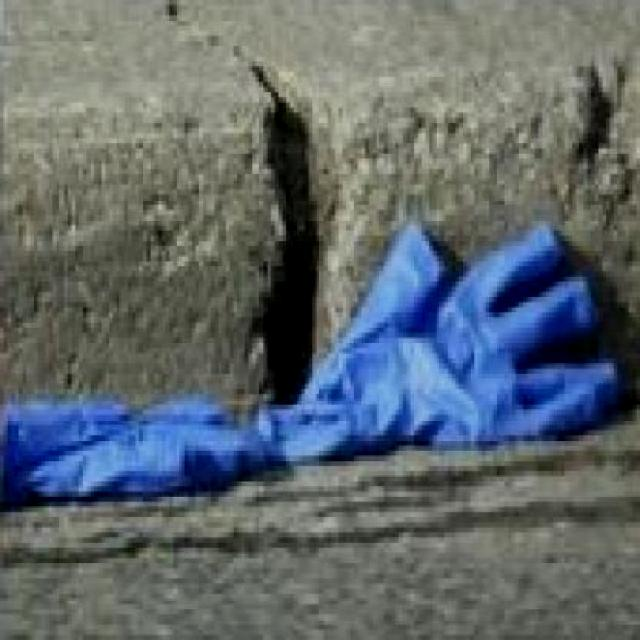glove: (283, 212, 614, 482), (4, 333, 285, 522)
